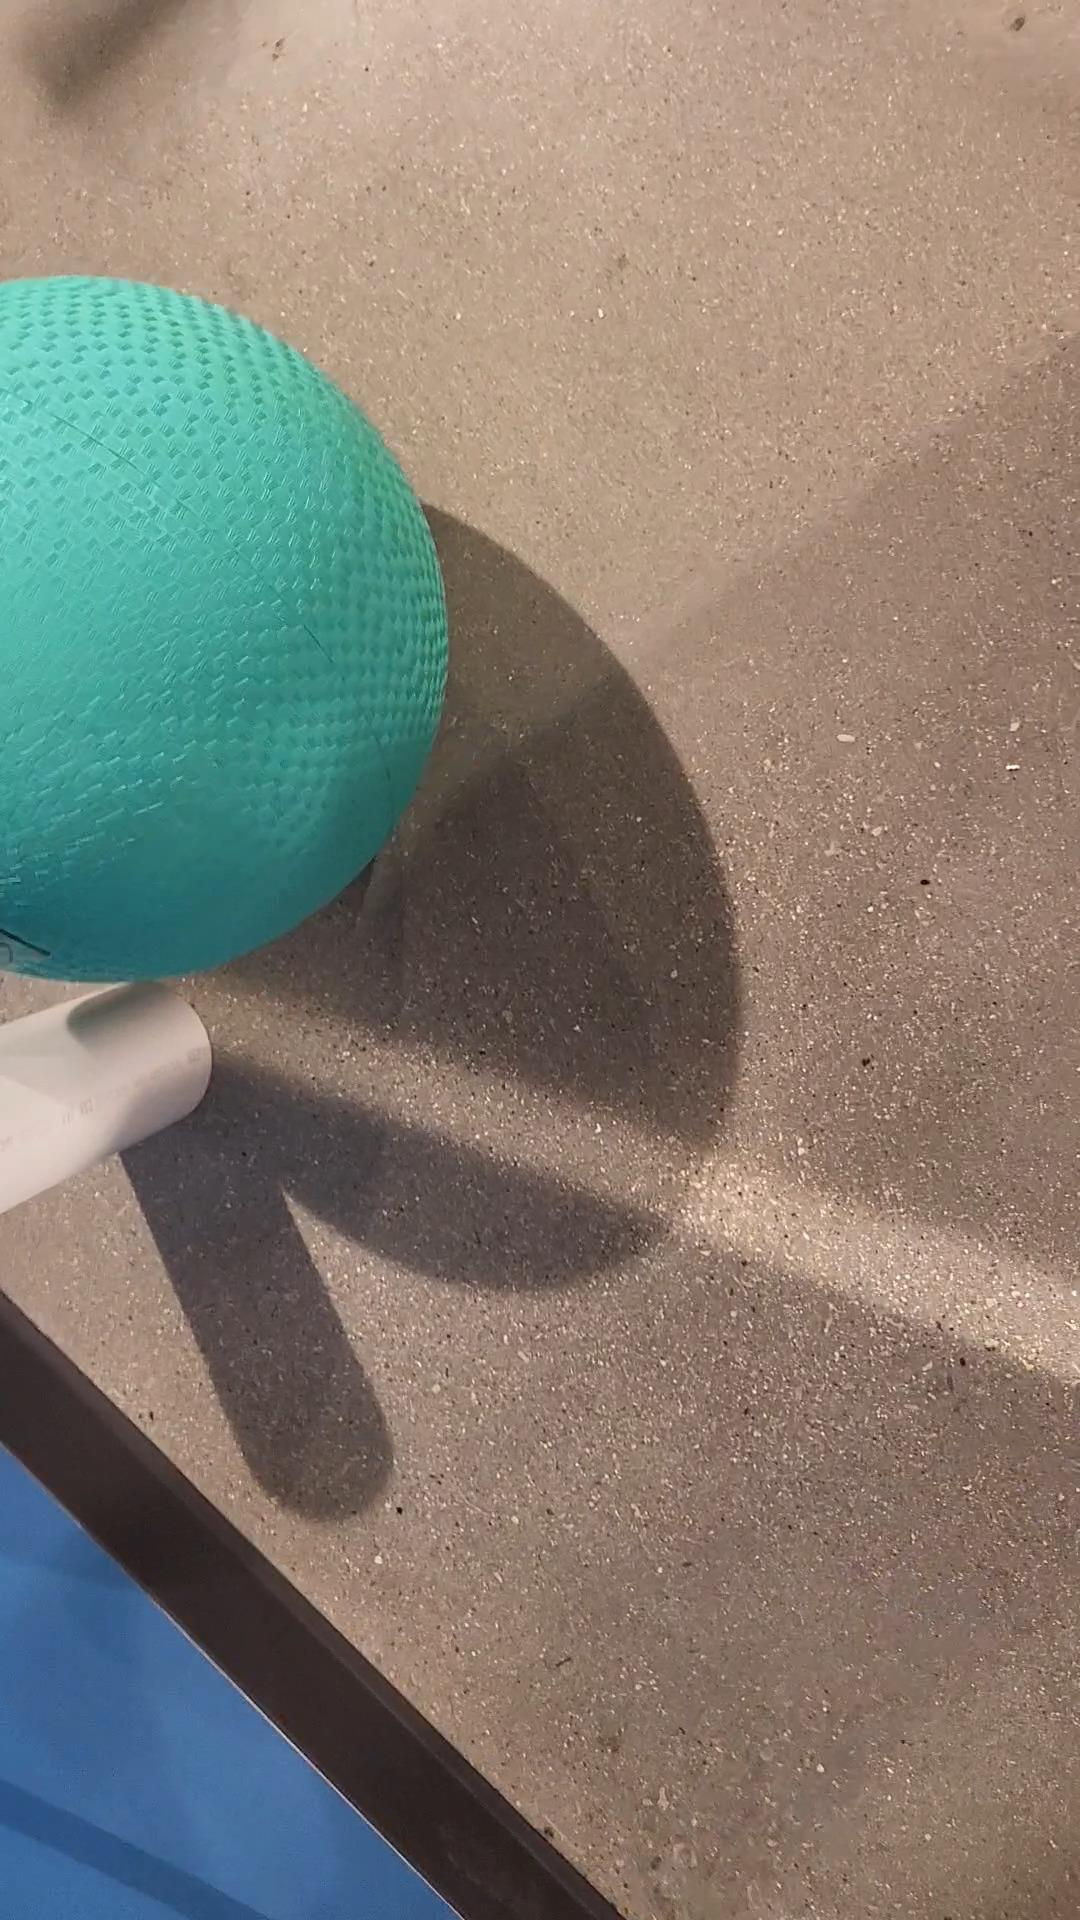algae: (0, 253, 460, 986)
coral: (0, 968, 229, 1230)
